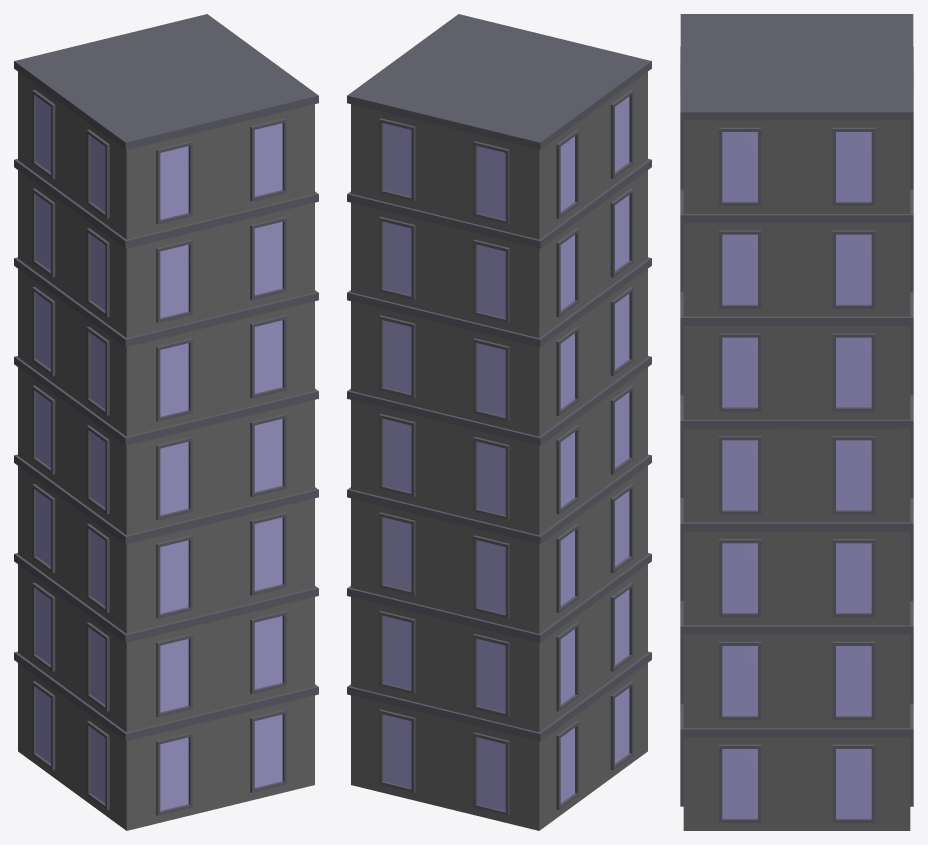
Rendered from obj_flat_2x2_sqaure_tall.FBX.
The picture shows the model from 3 angles, left to right: view 1: azimuth 30°, elevation 25°; view 2: azimuth 150°, elevation 25°; view 3: azimuth 270°, elevation 25°; orthographic projection. The views are drawn at different scales.
Visible parts, largest first — view 1: obj_flat_2x2_sqaure_tall; view 2: obj_flat_2x2_sqaure_tall; view 3: obj_flat_2x2_sqaure_tall.
Part boxes in pixels (<box>): obj_flat_2x2_sqaure_tall: <box>14,14,318,830</box>; obj_flat_2x2_sqaure_tall: <box>347,14,651,830</box>; obj_flat_2x2_sqaure_tall: <box>680,14,913,830</box>.
Size of the model in its own units: 4.11 by 14 by 4.11.
Materials: 1 (1 with a texture image).
